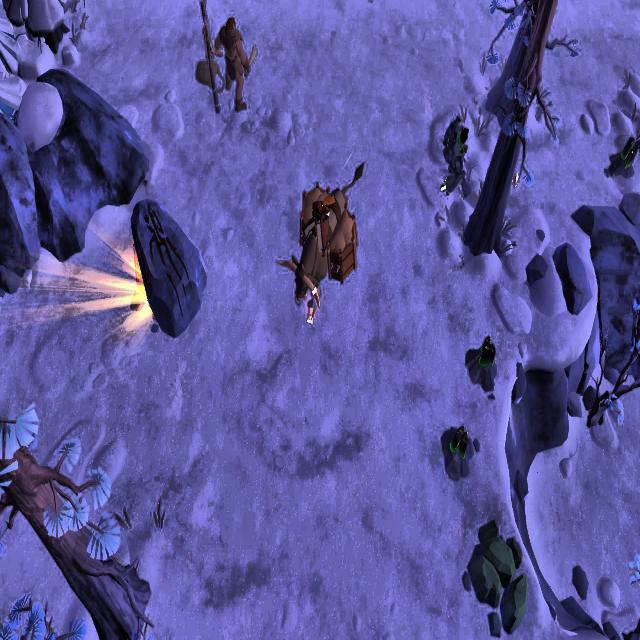enemy_factionKeeper: (216, 11, 260, 115)
ore_t3: (447, 422, 471, 464), (476, 332, 498, 370), (620, 133, 640, 171)
rock_t3: (460, 513, 530, 640)
